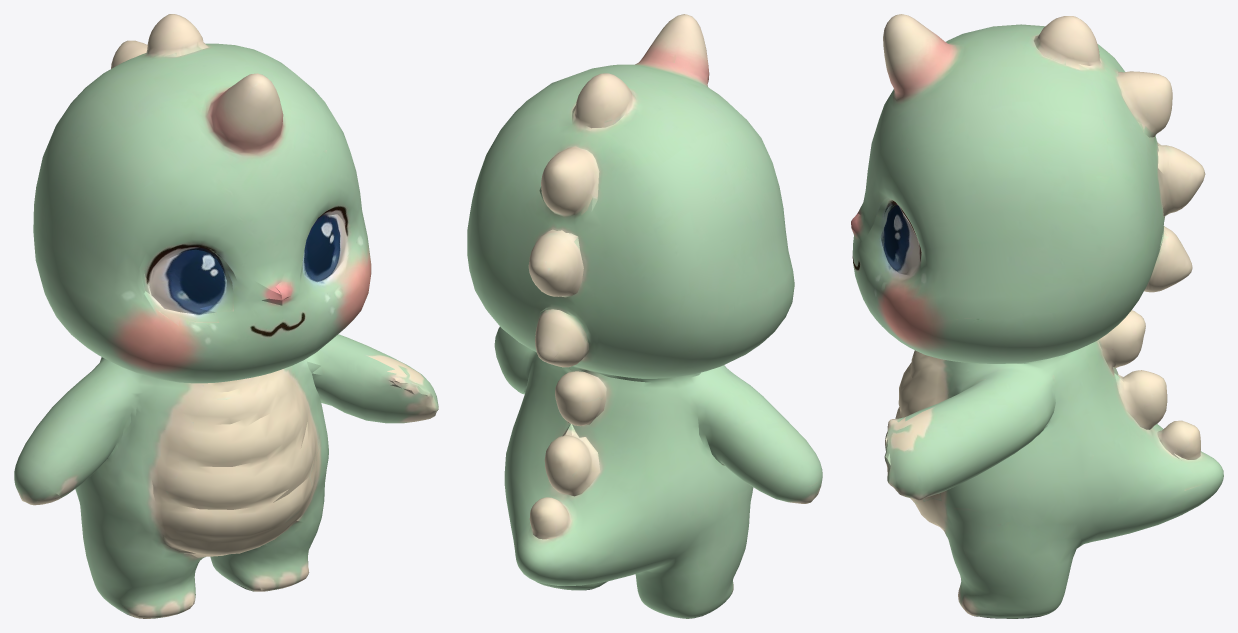
The model's file is nuri.glb.
The picture shows the model from 3 angles, left to right: view 1: azimuth 30°, elevation 25°; view 2: azimuth 150°, elevation 25°; view 3: azimuth 270°, elevation 25°; orthographic projection. The views are drawn at different scales.
Parts seen in each view (by area): view 1: Mesh_0; view 2: Mesh_0; view 3: Mesh_0.
Boxes of the visible parts, x1,y1,x2,y2 form: Mesh_0: (14, 14, 438, 618); Mesh_0: (467, 14, 822, 618); Mesh_0: (851, 14, 1223, 618).
Size of the model in its own units: 0.7031 by 1 by 0.6015.
1 material, 1 textured.
